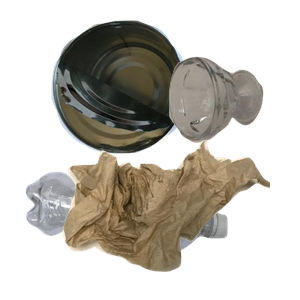glass: (166, 54, 300, 189)
metal: (49, 18, 229, 164)
plastic: (23, 169, 243, 300)
trash: (60, 138, 300, 300)
